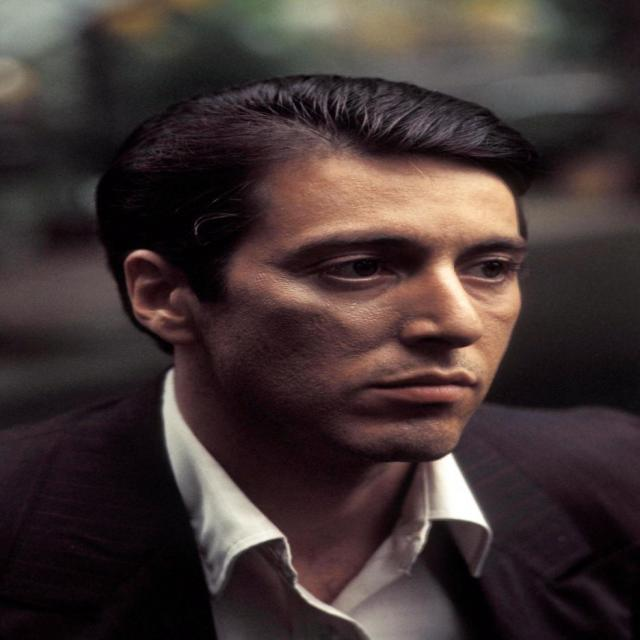no-earmuff: (82, 219, 209, 377)
